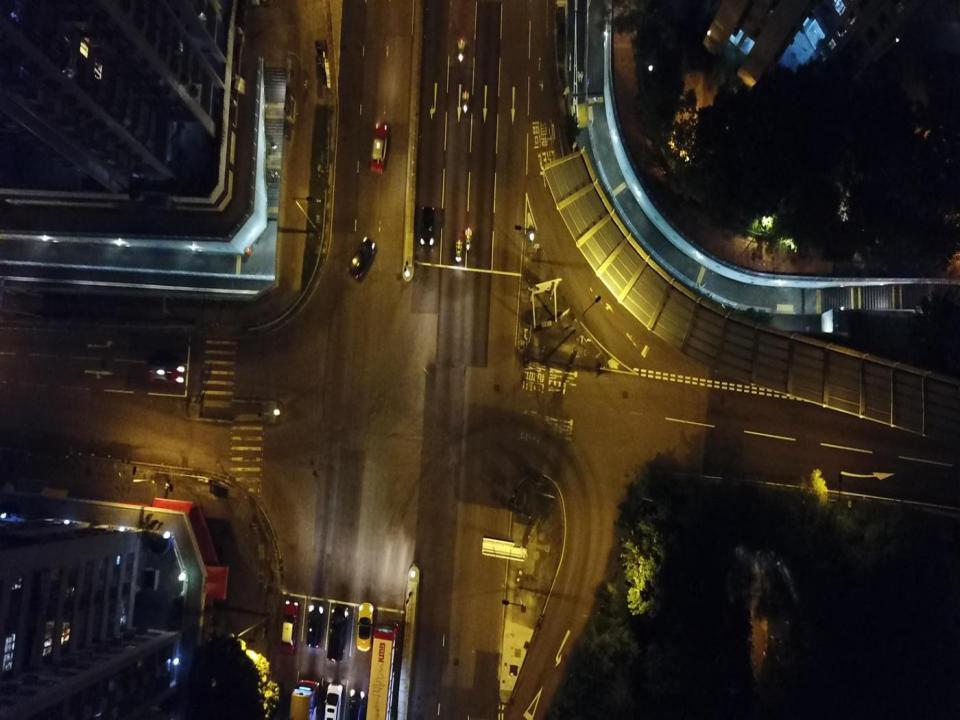bus: (365, 620, 399, 719), (288, 679, 320, 719)
car: (348, 234, 376, 280), (327, 605, 349, 663), (143, 362, 185, 387), (369, 122, 389, 174), (280, 600, 298, 654), (356, 602, 374, 652), (305, 604, 324, 648), (323, 682, 343, 719), (420, 206, 436, 246), (348, 688, 364, 719)
